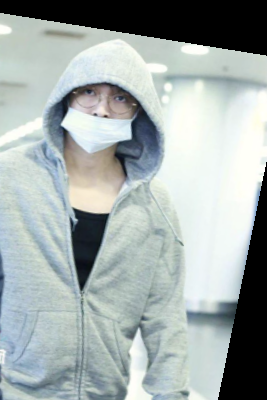mask_weared_incorrect: (52, 37, 170, 176)
